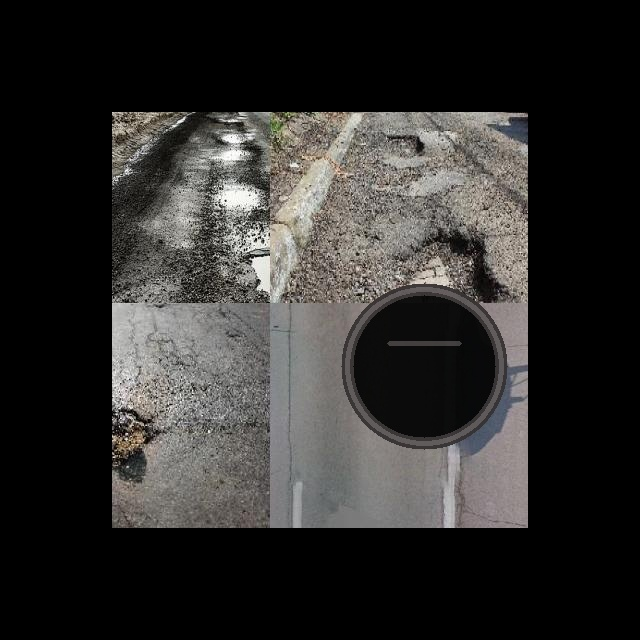open_manhole: (338, 280, 510, 452)
